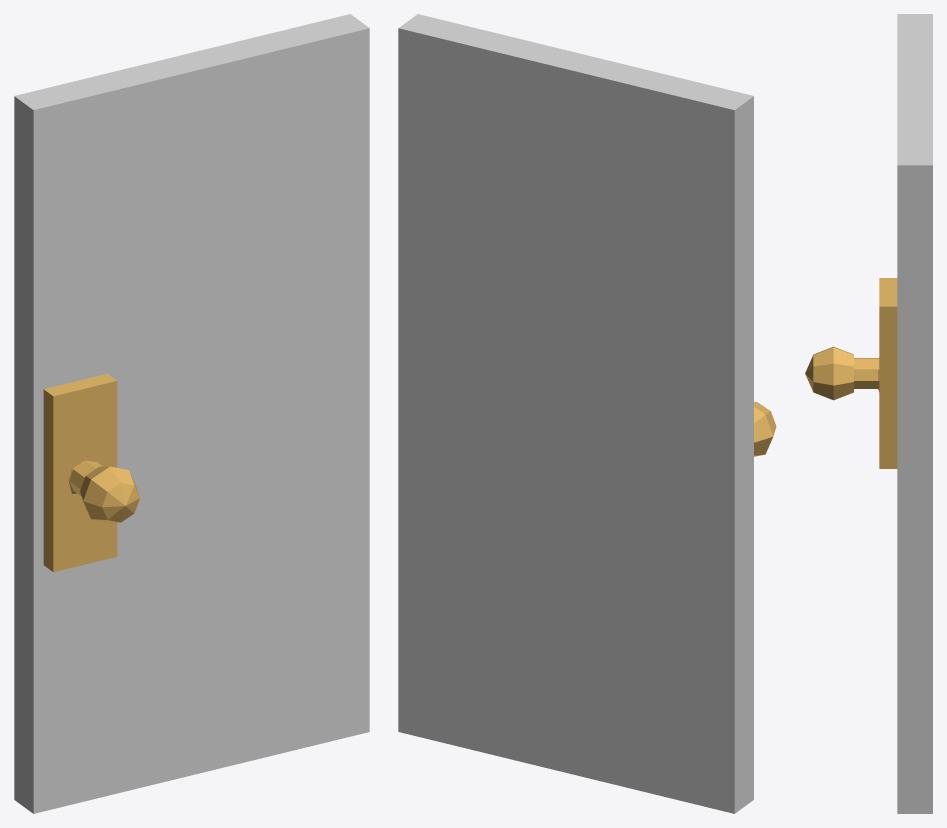
File: Door 1.fbx
3 renders of one model, left to right at view 1: azimuth 30°, elevation 25°; view 2: azimuth 150°, elevation 25°; view 3: azimuth 270°, elevation 25°, orthographic. The views are drawn at different scales.
Parts seen in each view (by area): view 1: Door; view 2: Door; view 3: Door.
Boxes of the visible parts, x1,y1,x2,y2 form: Door: (14, 14, 369, 813); Door: (398, 14, 776, 813); Door: (805, 14, 932, 813).
Size of the model in its own units: 100 by 200 by 35.74.
